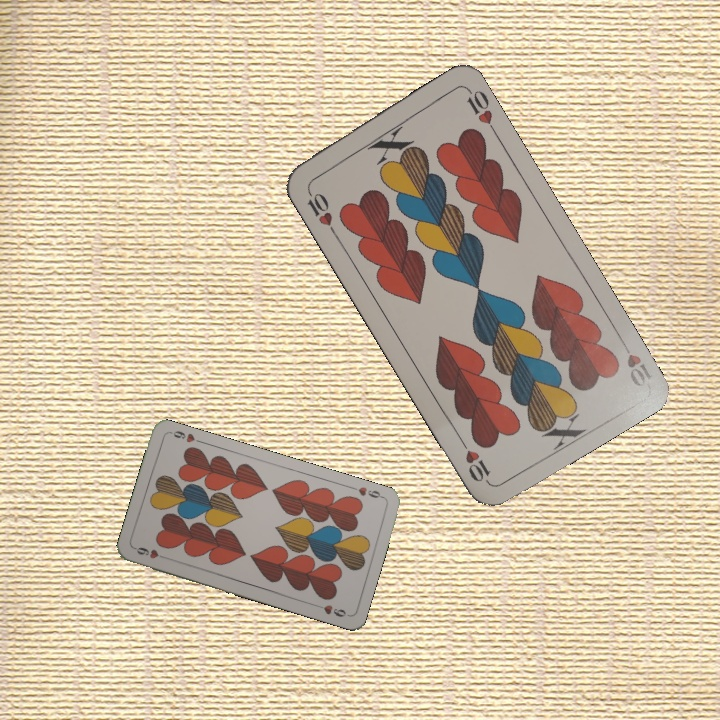H10: (615, 333, 655, 390), (302, 183, 339, 238)
H9: (131, 543, 171, 562), (347, 482, 386, 501)
